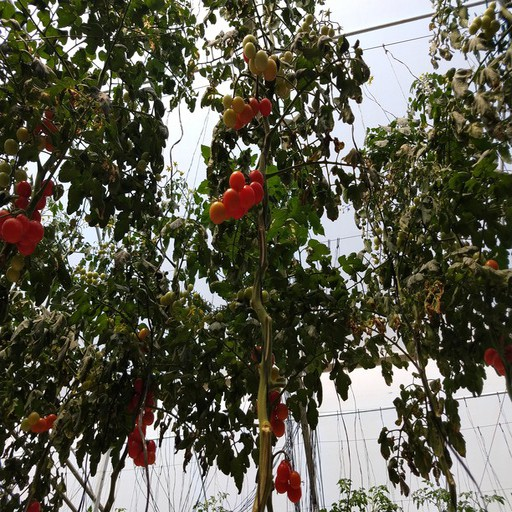green tomato bunch: (243, 35, 296, 98), (1, 129, 26, 192)
mixed tomato bunch: (221, 95, 272, 127), (21, 412, 56, 432)
red tomato bunch: (210, 169, 264, 224), (126, 375, 157, 465), (1, 213, 42, 257), (259, 390, 288, 436), (14, 179, 54, 212), (274, 461, 303, 502), (485, 334, 512, 375)
